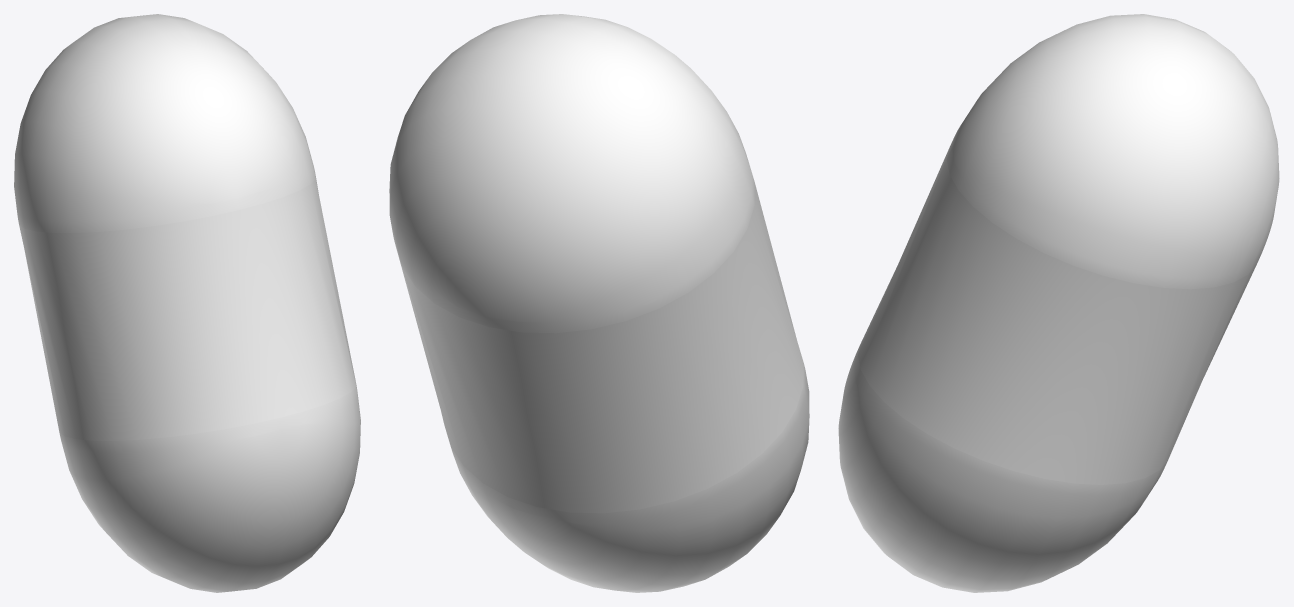
The model's file is dedouno_Muffin.obj.
3 views of the same model, side by side, from view 1: azimuth 30°, elevation 25°; view 2: azimuth 150°, elevation 25°; view 3: azimuth 270°, elevation 25° (orthographic). The views are drawn at different scales.
Parts seen in each view (by area): view 1: Object016; view 2: Object016; view 3: Object016.
Boxes of the visible parts, box(x1,y1,x2,y2) form: Object016: box(14, 14, 360, 592); Object016: box(389, 14, 809, 592); Object016: box(838, 14, 1279, 592).
Size of the model in its own units: 4.22 by 7.74 by 5.61.
